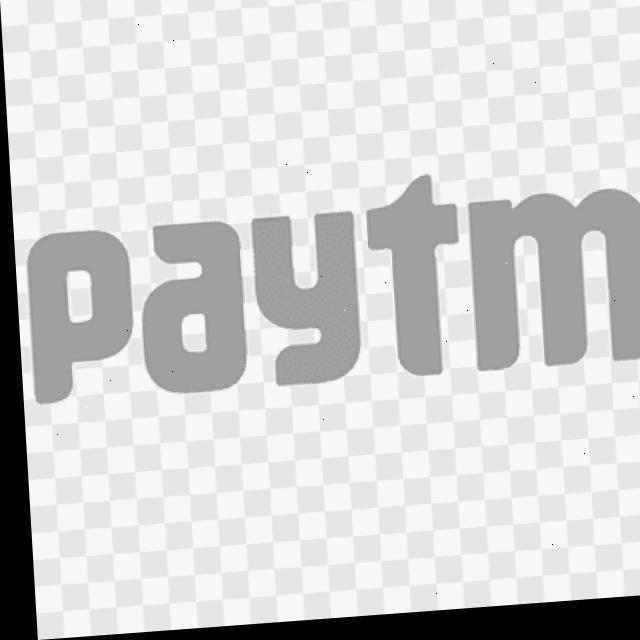fully_visible: (19, 186, 640, 418)
